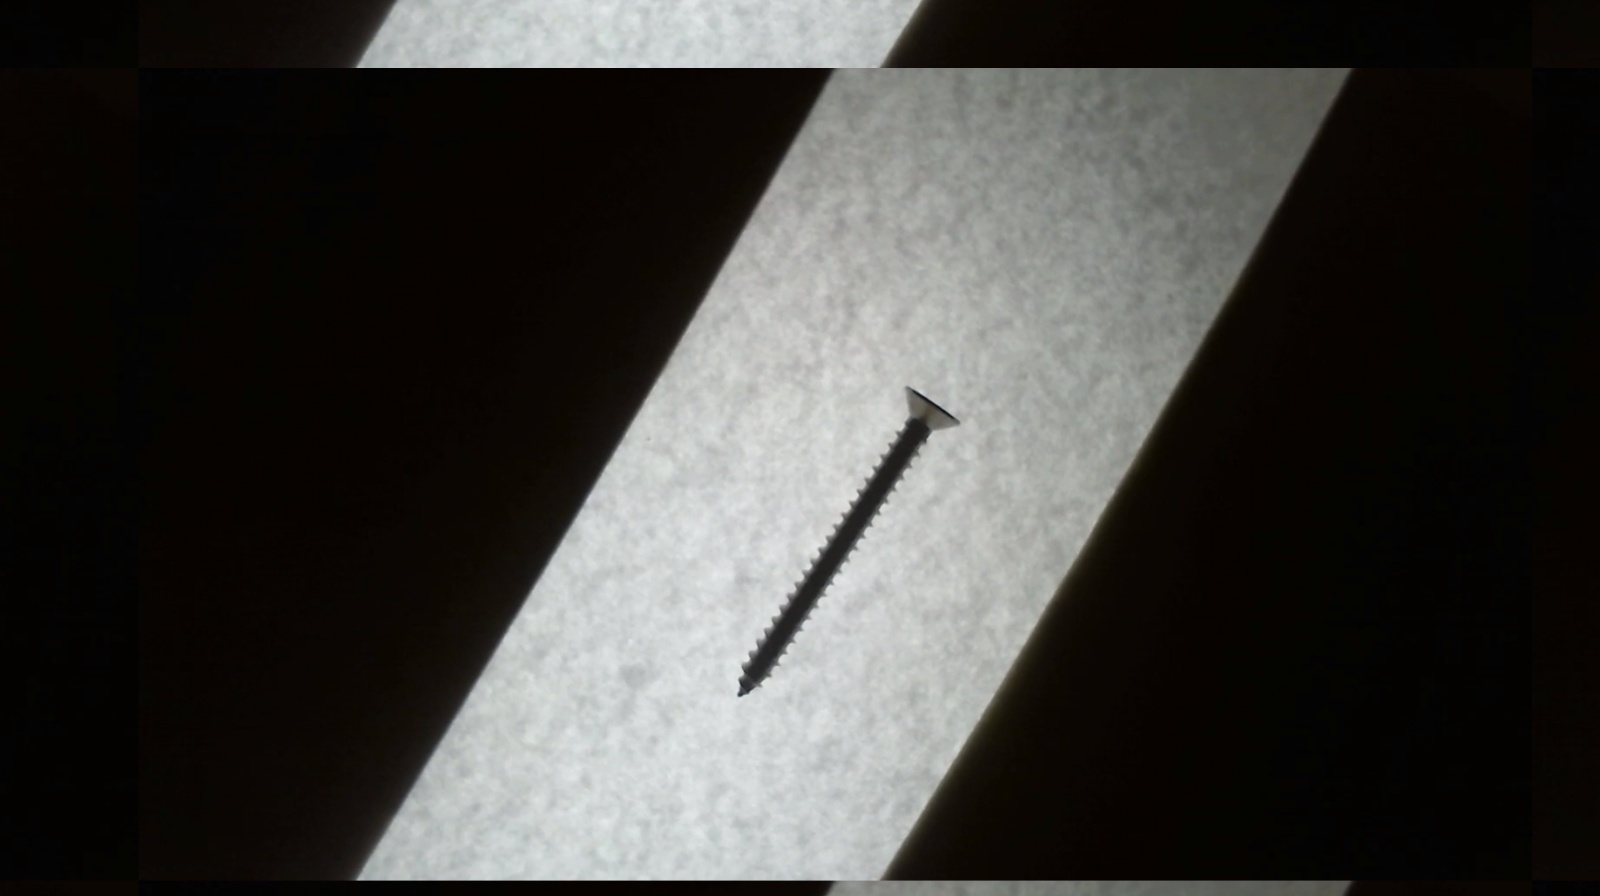S002: (732, 381, 969, 704)
